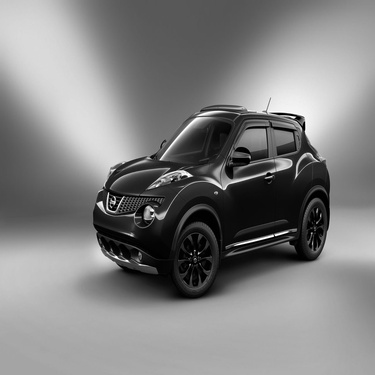car: (87, 93, 336, 304)
